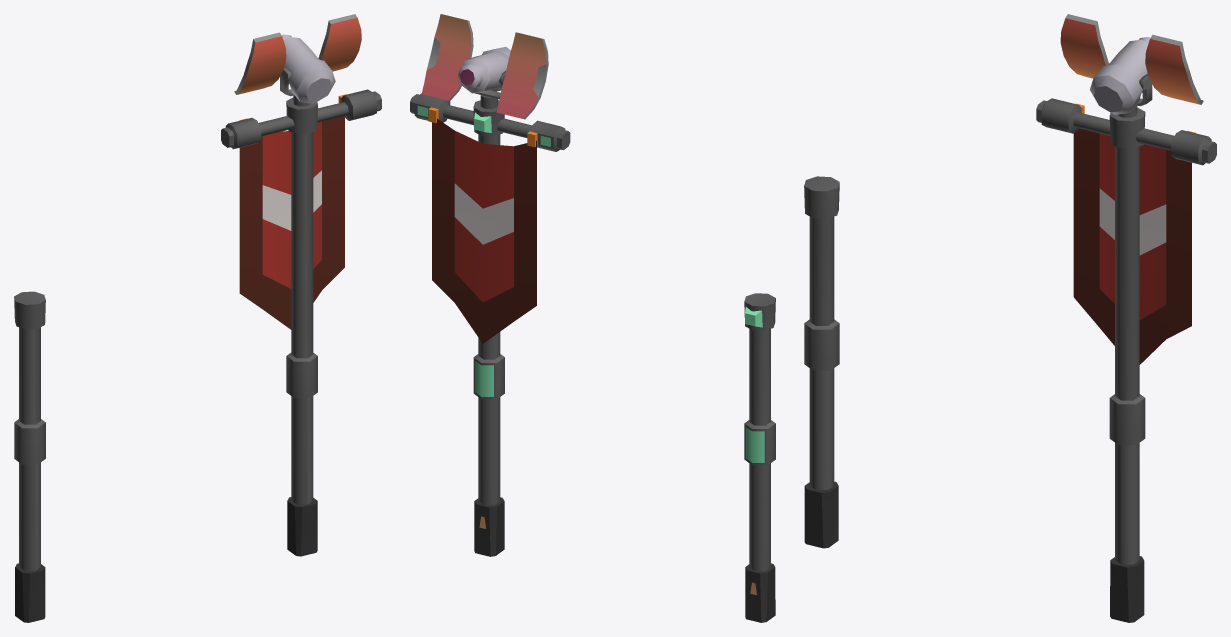
The model's file is plusgate_t1_a4.fbx.
3 renders of one model, left to right at view 1: azimuth 30°, elevation 25°; view 2: azimuth 150°, elevation 25°; view 3: azimuth 330°, elevation 25°, orthographic. The views are drawn at different scales.
Visible parts, largest first — view 1: plusgate_t1_a4_m, plusgate_t1_a4_m2; view 2: plusgate_t1_a4_m, plusgate_t1_a4_m2; view 3: plusgate_t1_a4_m, plusgate_t1_a4_m2.
Boxes of the visible parts, left/top/right/bottom form: plusgate_t1_a4_m: left=221, top=14, right=381, bottom=556; plusgate_t1_a4_m2: left=14, top=291, right=45, bottom=622; plusgate_t1_a4_m: left=410, top=14, right=570, bottom=556; plusgate_t1_a4_m2: left=744, top=293, right=775, bottom=622; plusgate_t1_a4_m: left=1036, top=14, right=1216, bottom=622; plusgate_t1_a4_m2: left=804, top=176, right=839, bottom=548.
Size of the model in its own units: 6.21 by 8.6 by 1.25.
